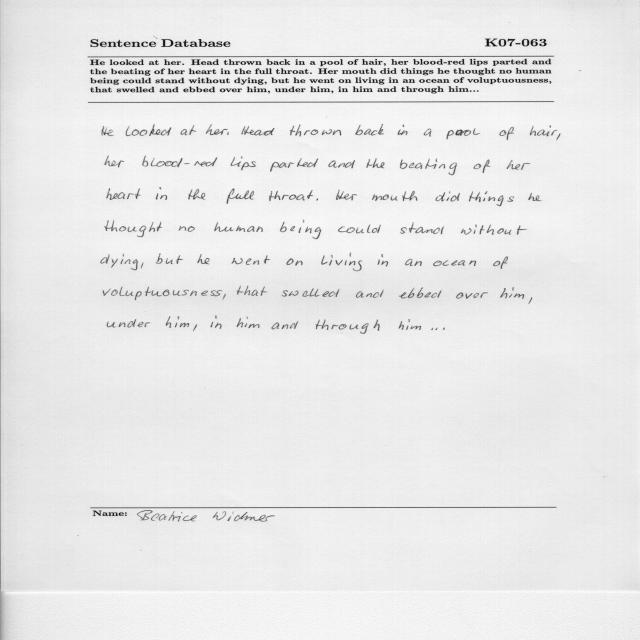word: (103, 287, 223, 300), (315, 319, 380, 334), (105, 220, 162, 237), (400, 159, 457, 175), (142, 156, 217, 167), (280, 220, 321, 239), (321, 253, 362, 271), (461, 224, 527, 235), (469, 191, 514, 206), (270, 158, 318, 172), (101, 254, 138, 271), (290, 125, 341, 137), (126, 125, 172, 137), (400, 222, 444, 234), (282, 288, 340, 297), (269, 190, 313, 201), (399, 288, 442, 299), (372, 191, 417, 201), (226, 188, 254, 204), (214, 223, 263, 232), (107, 188, 141, 200), (107, 319, 151, 328), (338, 225, 381, 234), (232, 255, 270, 265), (446, 128, 480, 139), (231, 157, 256, 171), (355, 124, 384, 136), (237, 286, 267, 296), (242, 126, 275, 135), (530, 125, 557, 136), (156, 253, 183, 264), (500, 287, 524, 299), (166, 316, 189, 328), (433, 260, 476, 266), (237, 317, 260, 328), (356, 289, 384, 298), (206, 124, 228, 135), (399, 319, 421, 330), (507, 160, 531, 170), (436, 192, 460, 202), (336, 190, 357, 201), (456, 292, 488, 299), (474, 160, 491, 173), (105, 156, 125, 167), (328, 160, 355, 168), (272, 322, 299, 330), (188, 189, 206, 200), (499, 127, 514, 140), (493, 256, 508, 269), (367, 159, 385, 169), (180, 125, 197, 135), (156, 187, 167, 200), (211, 316, 222, 329), (378, 254, 389, 266), (197, 254, 210, 264), (102, 126, 114, 136), (286, 259, 303, 266), (405, 259, 422, 266), (528, 193, 542, 201), (398, 125, 408, 135), (179, 226, 195, 232), (424, 129, 431, 137), (431, 327, 445, 330), (557, 133, 561, 140), (529, 297, 533, 304), (193, 324, 197, 331), (141, 262, 144, 269), (223, 293, 226, 300), (227, 132, 229, 135), (316, 198, 318, 201)
